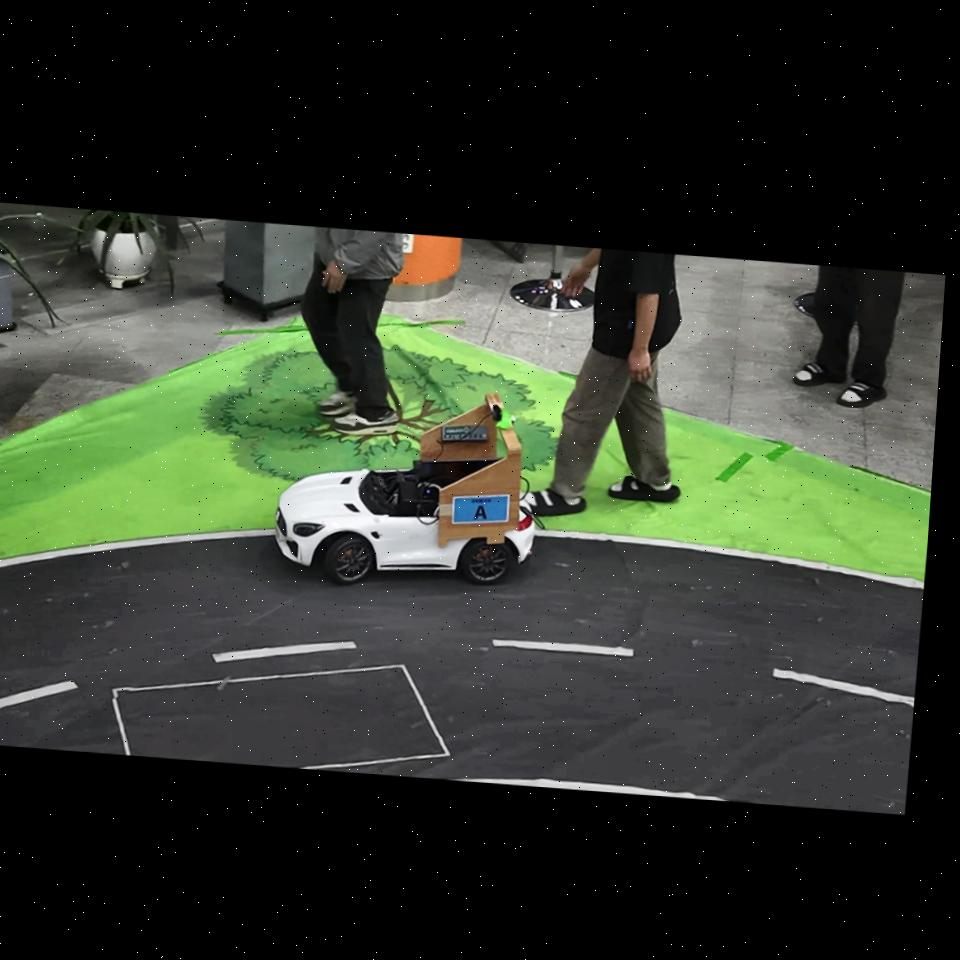broken_line: (773, 669, 914, 707), (213, 641, 356, 663), (492, 639, 634, 657), (0, 681, 77, 709)
